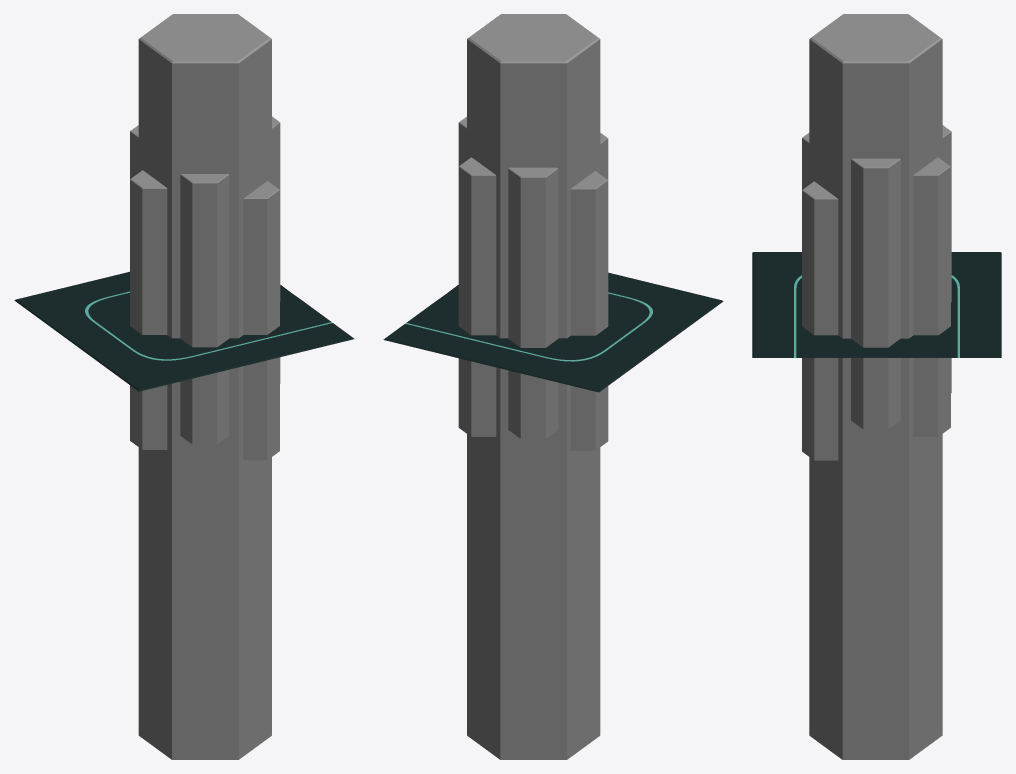
The model's file is Walls_ServerThingy.fbx.
3 views of the same model, side by side, from view 1: azimuth 30°, elevation 25°; view 2: azimuth 150°, elevation 25°; view 3: azimuth 270°, elevation 25° (orthographic).
Parts seen in each view (by area): view 1: Walls_ServerThingy; view 2: Walls_ServerThingy; view 3: Walls_ServerThingy.
Part boxes in pixels (x1,y1,x2,y2): Walls_ServerThingy: (14, 14, 353, 759); Walls_ServerThingy: (383, 14, 723, 759); Walls_ServerThingy: (752, 14, 1001, 759).
Size of the model in its own units: 600 by 1855 by 600.
